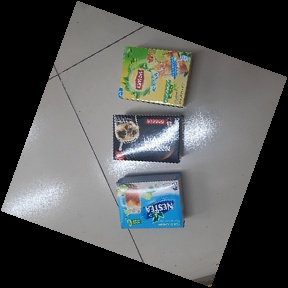CF Viet: (112, 114, 183, 164)
LipTon: (116, 44, 194, 109)
Nestea: (115, 173, 185, 228)
